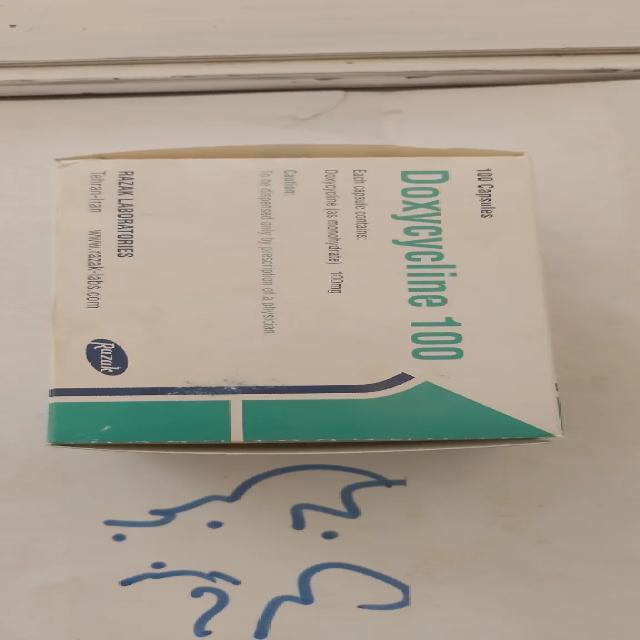drug-name: (388, 169, 476, 362)
